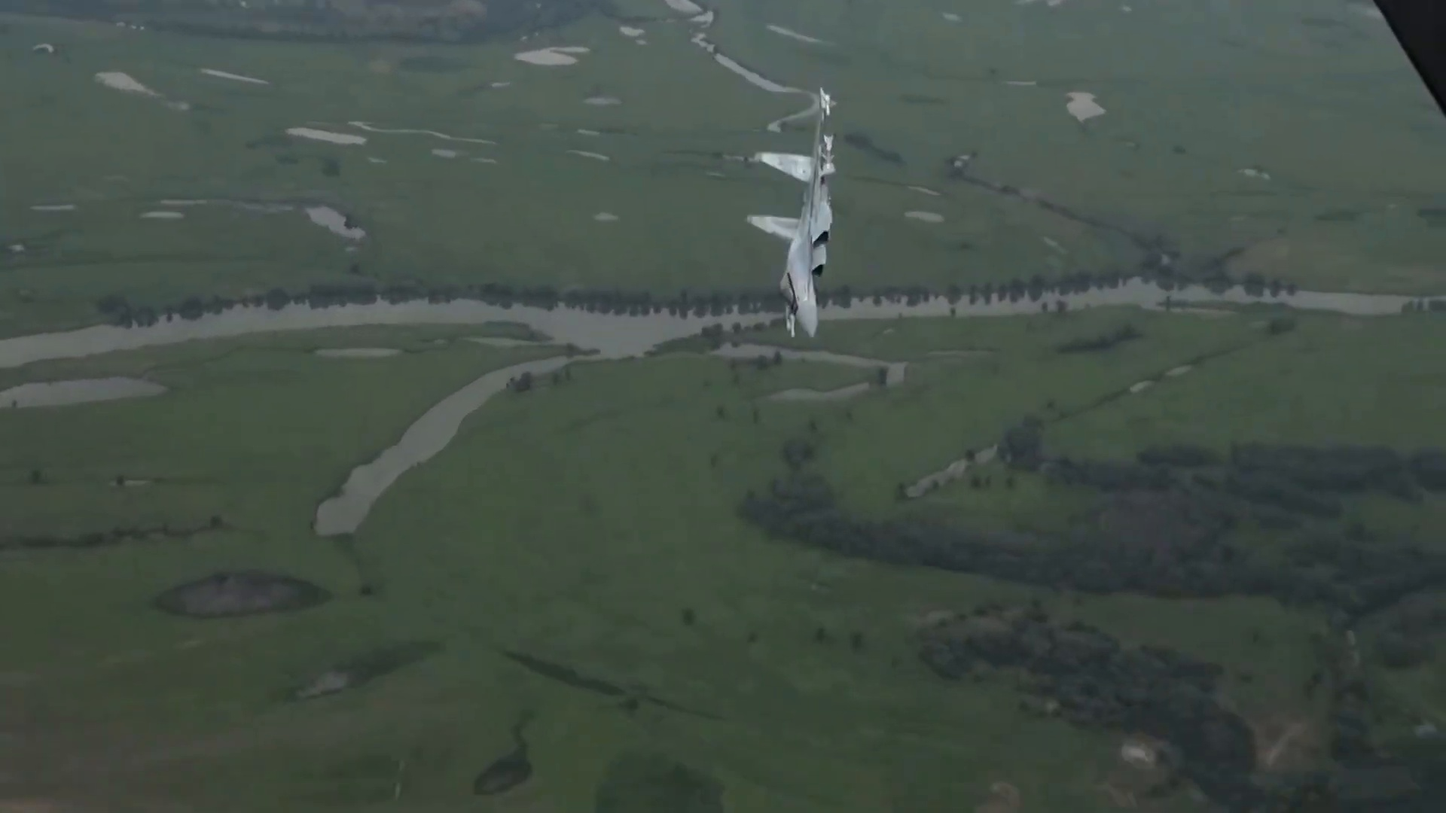Su35: (744, 86, 837, 342)
